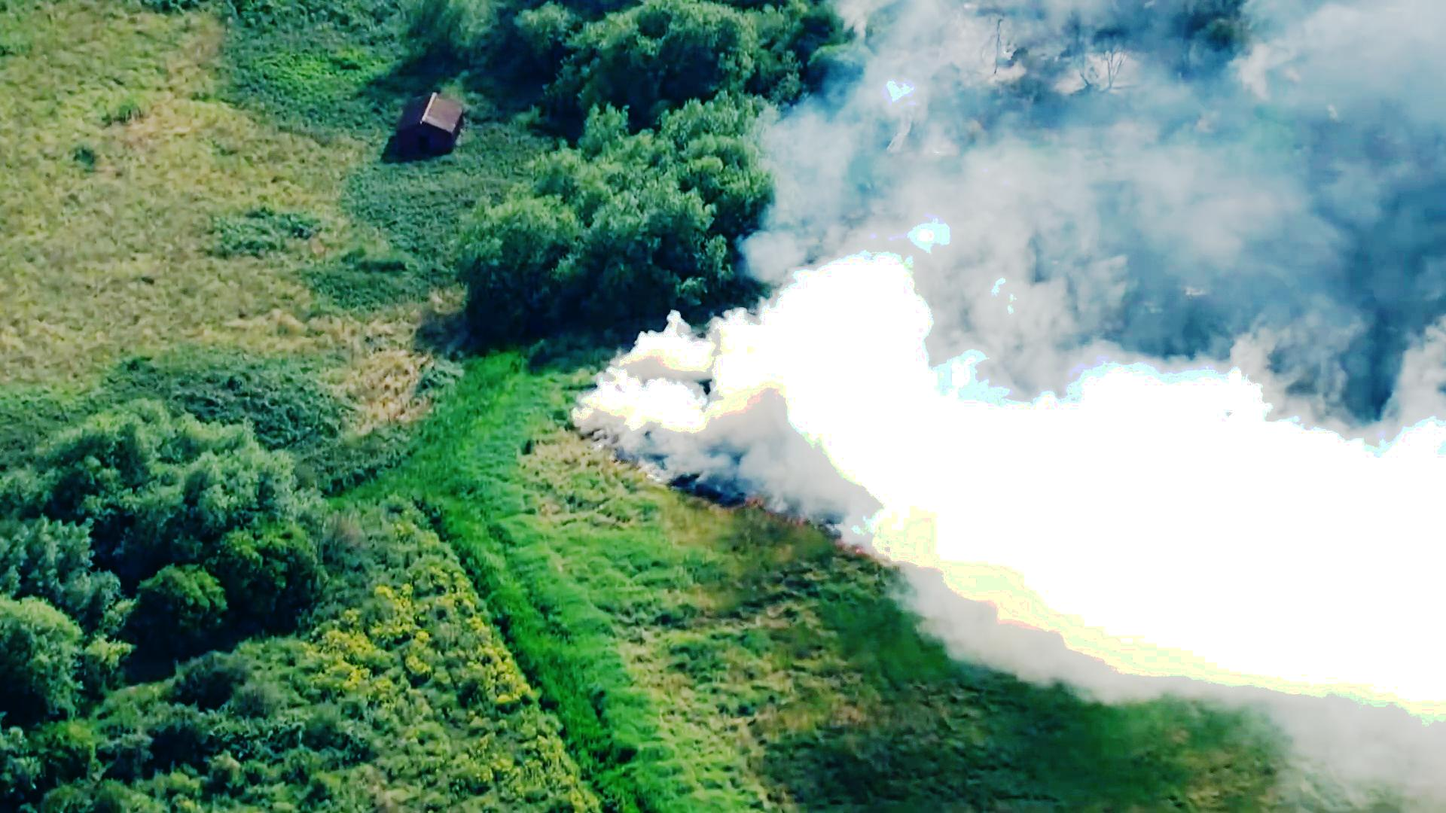smoke: (1020, 353, 1203, 557)
